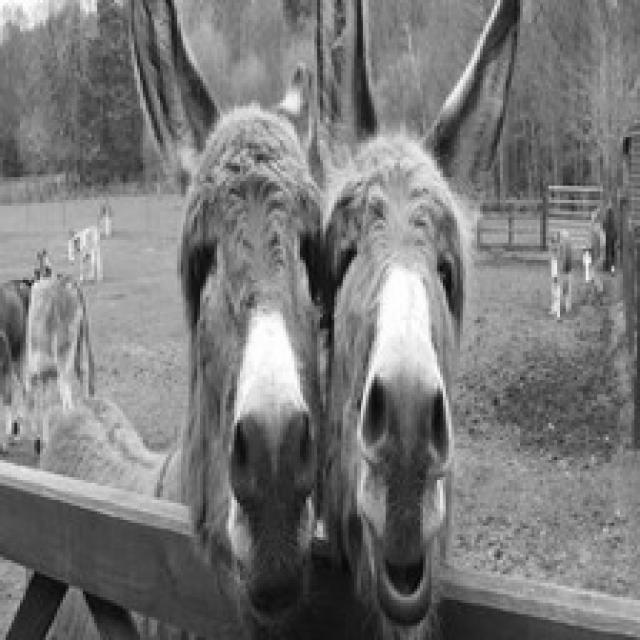Donkey: (314, 0, 526, 637), (123, 0, 326, 637)
